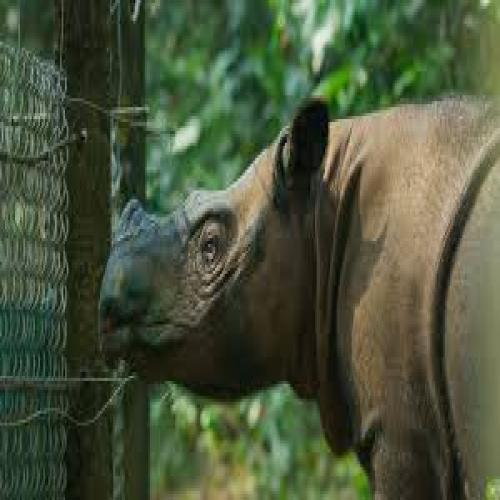rhino-endangered: (97, 111, 488, 492)
